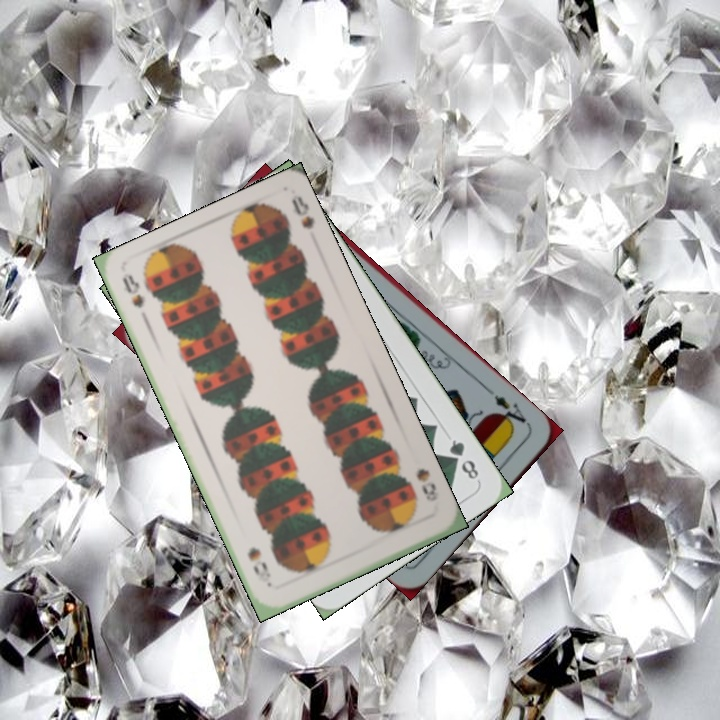EA: (489, 390, 533, 432)
G8: (445, 435, 482, 483)
S8: (412, 464, 441, 504), (118, 270, 147, 310)
